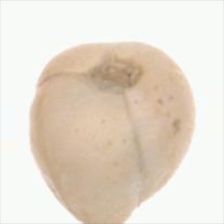L3: (125, 187, 160, 220)
L4: (30, 41, 195, 223)
